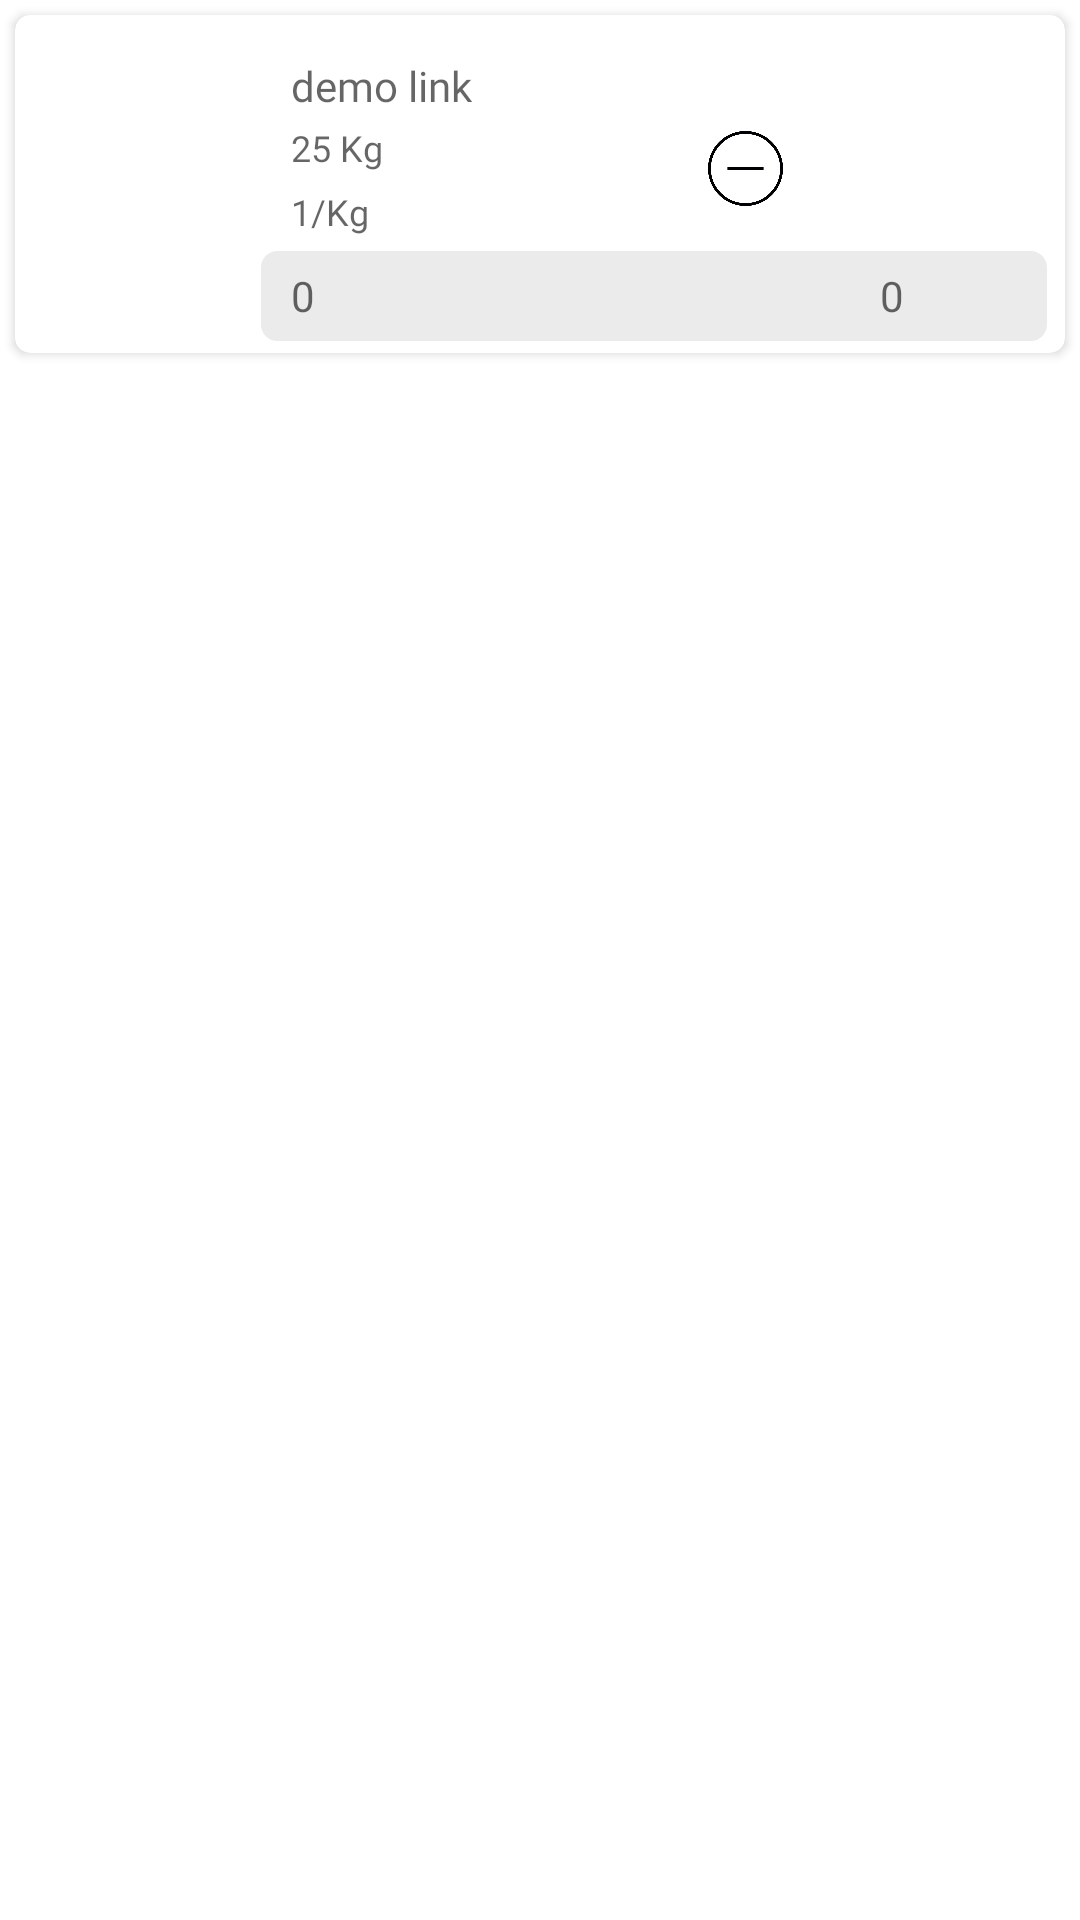

Icon click points for this 1080×1920 phone screenshot, format point (x, y):
minus: point (745, 168)
